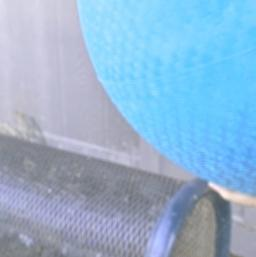algae: (74, 0, 256, 202)
